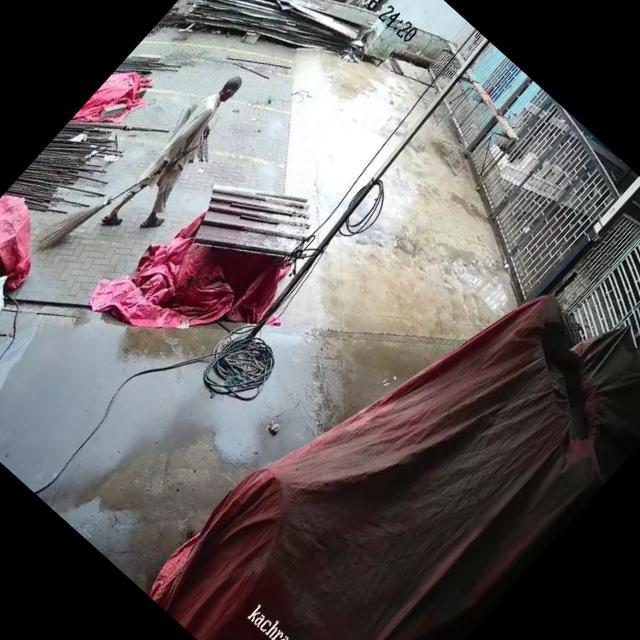person: (90, 70, 265, 257)
